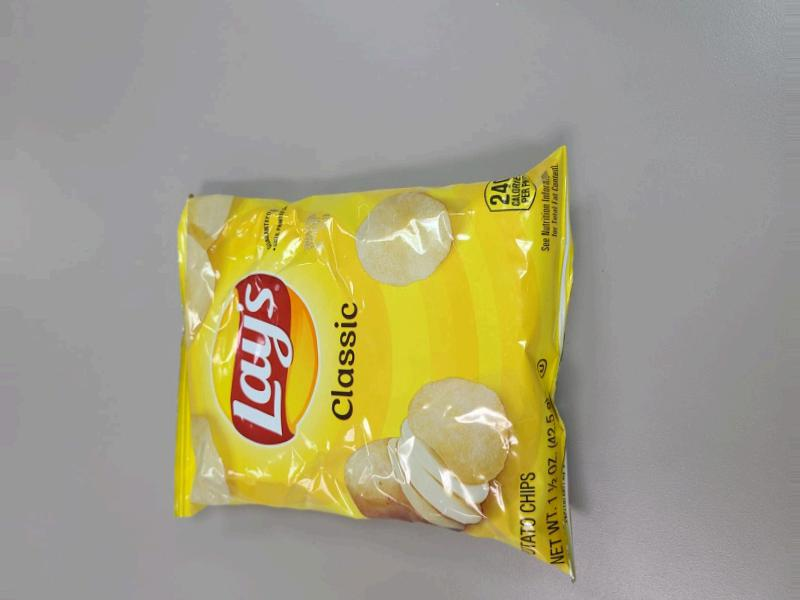lays: (274, 246, 530, 600)
